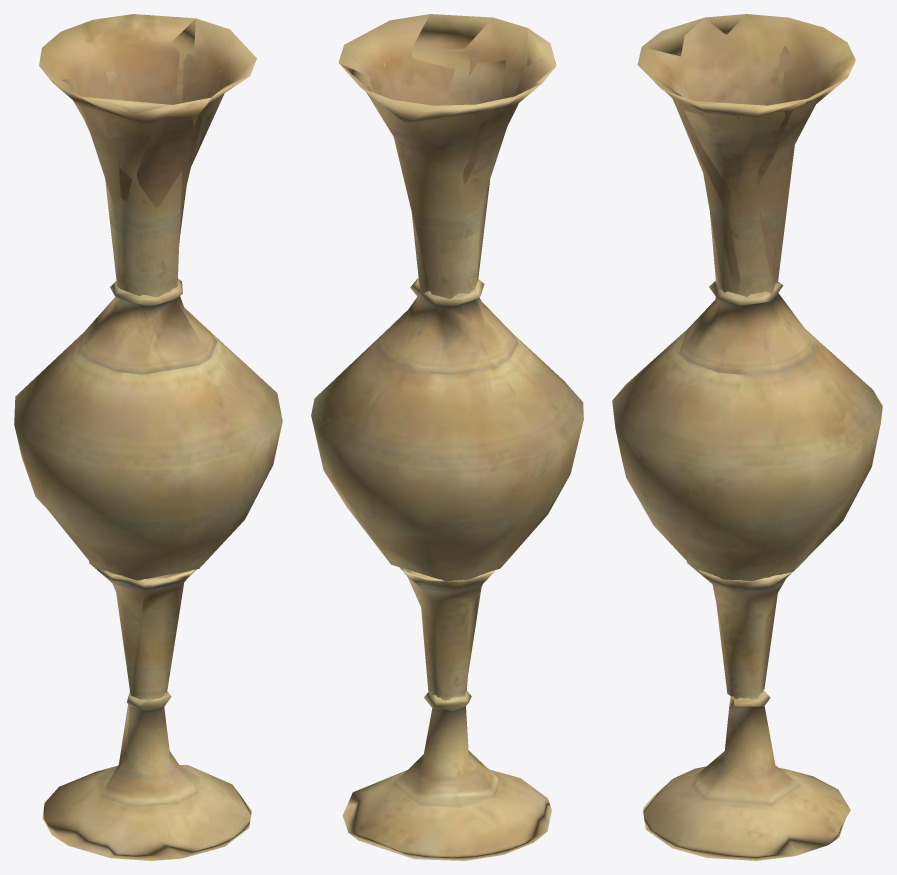
Rendered from brassvase.glb.
3 views of the same model, side by side, from view 1: azimuth 30°, elevation 25°; view 2: azimuth 150°, elevation 25°; view 3: azimuth 270°, elevation 25° (orthographic).
Parts seen in each view (by area): view 1: brass_vase_01; view 2: brass_vase_01; view 3: brass_vase_01.
Part boxes in pixels (left/top/right/bottom): brass_vase_01: left=14, top=14, right=282, bottom=860; brass_vase_01: left=311, top=14, right=583, bottom=860; brass_vase_01: left=612, top=14, right=882, bottom=860.
Size of the model in its own units: 0.225 by 0.6925 by 0.2245.
1 material, 1 textured.
